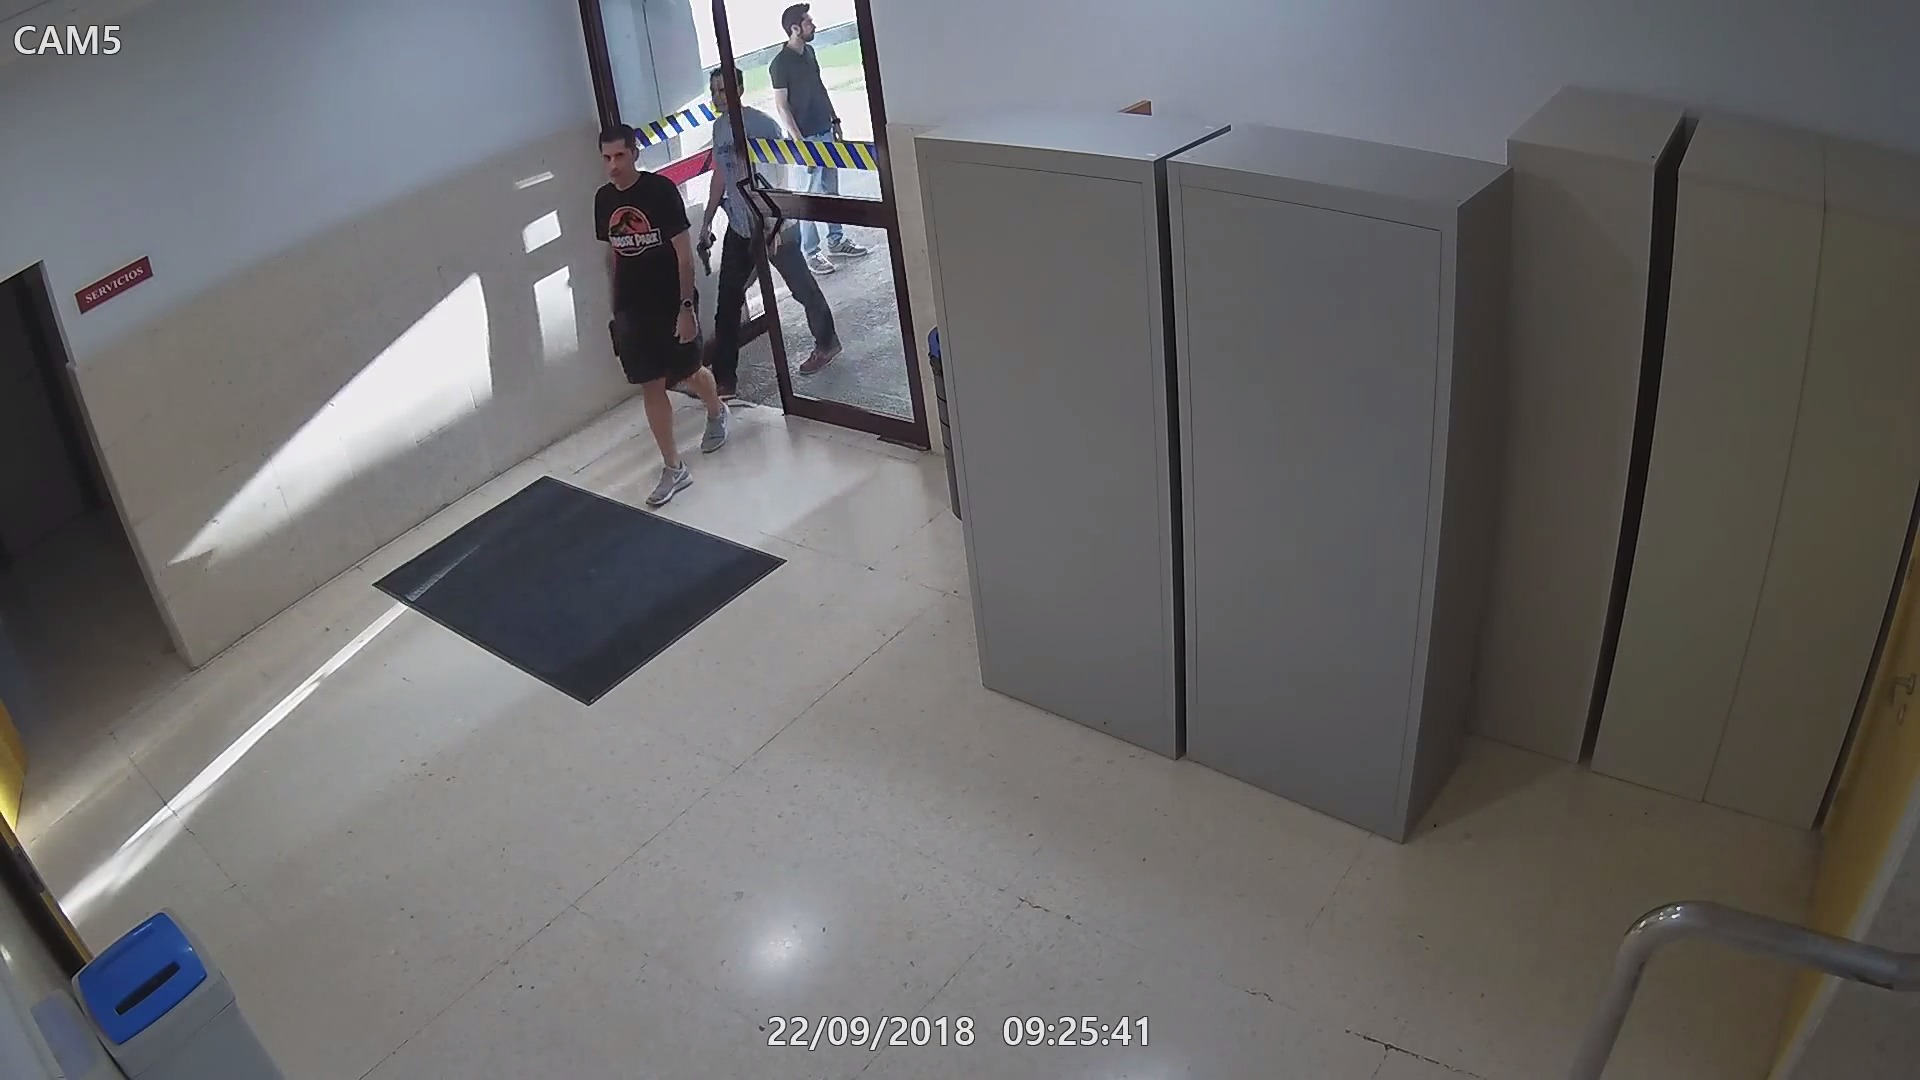Handgun: (694, 224, 721, 280), (600, 311, 626, 357)
Knife: (740, 225, 781, 293)
